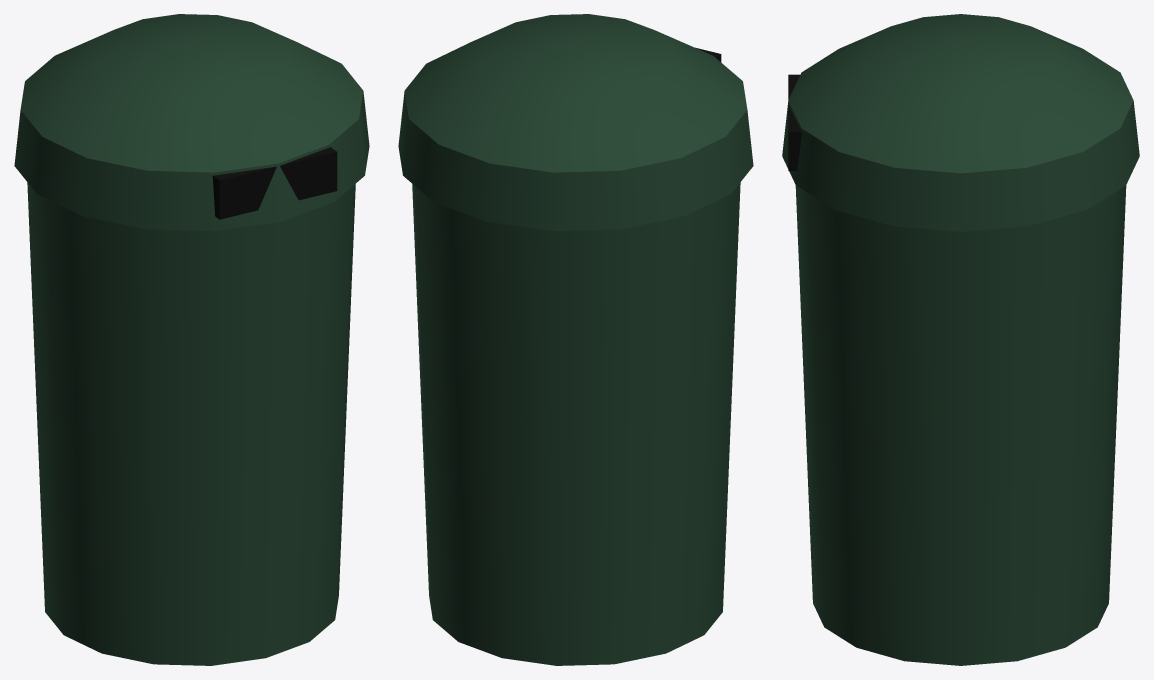
File: street.furniture.park_bin_green.glb
The picture shows the model from 3 angles, left to right: view 1: azimuth 30°, elevation 25°; view 2: azimuth 150°, elevation 25°; view 3: azimuth 270°, elevation 25°; orthographic projection.
Visible parts, largest first — view 1: main__paint_243, main__rubber; view 2: main__paint_243; view 3: main__paint_243, main__rubber.
Part boxes in pixels (x1=…): main__paint_243: x1=14, y1=14, x2=369, y2=665; main__rubber: x1=212, y1=147, x2=337, y2=219; main__paint_243: x1=398, y1=14, x2=753, y2=665; main__paint_243: x1=782, y1=14, x2=1139, y2=665; main__rubber: x1=788, y1=74, x2=802, y2=170.
Size of the model in its own units: 0.58 by 1 by 0.58.
